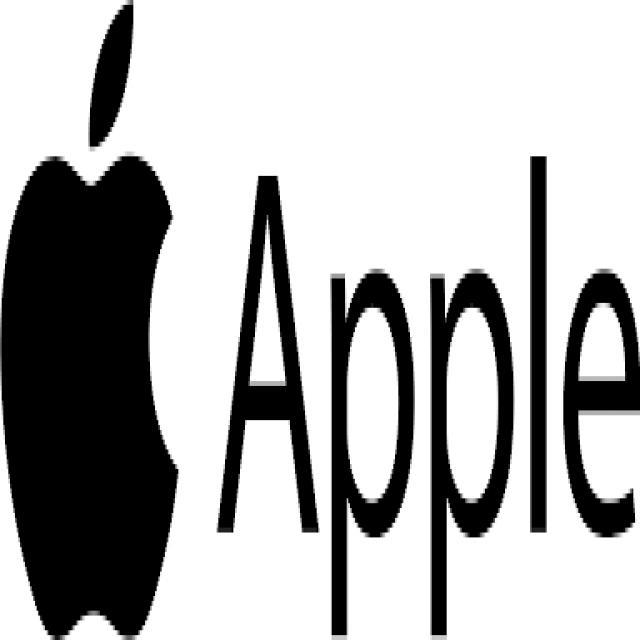apple: (195, 135, 640, 640), (0, 0, 186, 640)
